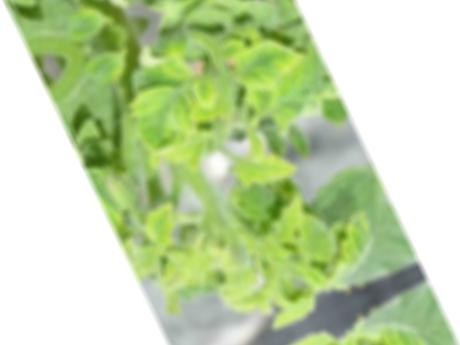Tomato leaf yellow virus: (119, 72, 206, 168), (217, 22, 310, 106), (216, 135, 303, 206), (305, 211, 385, 285), (259, 192, 315, 250), (136, 194, 187, 253)
